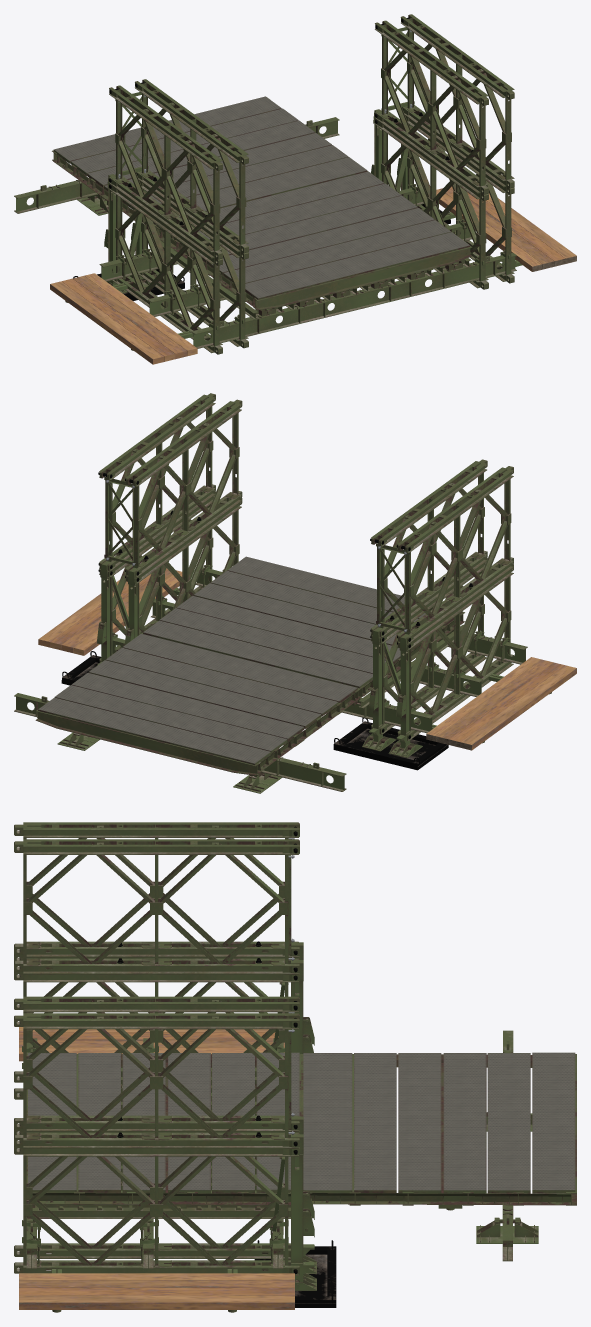
File: Bailey_bridge.fbx
3 views of the same model, one above another, from view 1: azimuth 30°, elevation 25°; view 2: azimuth 150°, elevation 25°; view 3: azimuth 270°, elevation 25° (orthographic). The views are drawn at different scales.
Visible parts, largest first — view 1: Ramp_Plain_and_Button_02, Ramp_Plain_and_Button_01, Main_Bridge_aur_Decking_Members_04, Main_Bridge_aur_Decking_Members_07, Main_Bridge_aur_Decking_Members_05, Main_Bridge_aur_Decking_Members_01, Foot_Walk_01, Transom_03, Main_Bridge_aur_Decking_Members_06, Foot_Walk_03, Main_Bridge_aur_Decking_Members_02, Main_Bridge_aur_Decking_Members_08 (+7 smaller); view 2: Ramp_Plain_and_Button_01, Ramp_Plain_and_Button_02, Main_Bridge_aur_Decking_Members_07, Main_Bridge_aur_Decking_Members_04, Foot_Walk_01, Main_Bridge_aur_Decking_Members_05, Main_Bridge_aur_Decking_Members_01, Main_Bridge_aur_Decking_Members_06, Main_Bridge_aur_Decking_Members_02, Foot_Walk_03, Main_Bridge_aur_Decking_Members_08, Main_Bridge_aur_Decking_Members_03 (+13 smaller); view 3: Ramp_Plain_and_Button_01, Ramp_Plain_and_Button_02, Main_Bridge_aur_Decking_Members_05, Main_Bridge_aur_Decking_Members_01, Main_Bridge_aur_Decking_Members_07, Main_Bridge_aur_Decking_Members_04, Main_Bridge_aur_Decking_Members_03, Foot_Walk_03, Main_Bridge_aur_Decking_Members_08, Main_Bridge_aur_Decking_Members_02, Foot_Walk_01, Stringer_04 (+6 smaller).
Part boxes in pixels (x1=…): Ramp_Plain_and_Button_02: x1=155, y1=171, x2=472, y2=310; Ramp_Plain_and_Button_01: x1=52, y1=96, x2=367, y2=229; Main_Bridge_aur_Decking_Members_04: x1=109, y1=85, x2=222, y2=259; Main_Bridge_aur_Decking_Members_07: x1=375, y1=20, x2=488, y2=194; Main_Bridge_aur_Decking_Members_05: x1=400, y1=14, x2=514, y2=188; Main_Bridge_aur_Decking_Members_01: x1=135, y1=79, x2=248, y2=253; Foot_Walk_01: x1=50, y1=273, x2=197, y2=364; Transom_03: x1=191, y1=252, x2=516, y2=348; Main_Bridge_aur_Decking_Members_06: x1=109, y1=183, x2=222, y2=354; Foot_Walk_03: x1=436, y1=186, x2=576, y2=271; Main_Bridge_aur_Decking_Members_02: x1=139, y1=180, x2=248, y2=348; Main_Bridge_aur_Decking_Members_08: x1=375, y1=118, x2=488, y2=289; Ramp_Plain_and_Button_01: x1=35, y1=633, x2=360, y2=775; Ramp_Plain_and_Button_02: x1=141, y1=556, x2=465, y2=698; Main_Bridge_aur_Decking_Members_07: x1=125, y1=399, x2=242, y2=577; Main_Bridge_aur_Decking_Members_04: x1=397, y1=466, x2=513, y2=643; Foot_Walk_01: x1=426, y1=657, x2=576, y2=750; Main_Bridge_aur_Decking_Members_05: x1=99, y1=393, x2=215, y2=571; Main_Bridge_aur_Decking_Members_01: x1=371, y1=459, x2=487, y2=637; Main_Bridge_aur_Decking_Members_06: x1=397, y1=564, x2=513, y2=740; Main_Bridge_aur_Decking_Members_02: x1=371, y1=558, x2=487, y2=734; Foot_Walk_03: x1=38, y1=568, x2=182, y2=655; Main_Bridge_aur_Decking_Members_08: x1=125, y1=498, x2=242, y2=634; Main_Bridge_aur_Decking_Members_03: x1=99, y1=491, x2=215, y2=662; Ramp_Plain_and_Button_01: x1=301, y1=1052, x2=576, y2=1210; Ramp_Plain_and_Button_02: x1=26, y1=1052, x2=301, y2=1208; Main_Bridge_aur_Decking_Members_05: x1=14, y1=1013, x2=299, y2=1148; Main_Bridge_aur_Decking_Members_01: x1=14, y1=839, x2=299, y2=974; Main_Bridge_aur_Decking_Members_07: x1=14, y1=996, x2=299, y2=1131; Main_Bridge_aur_Decking_Members_04: x1=14, y1=822, x2=299, y2=957; Main_Bridge_aur_Decking_Members_03: x1=14, y1=1143, x2=299, y2=1275; Foot_Walk_03: x1=19, y1=1273, x2=294, y2=1309; Main_Bridge_aur_Decking_Members_08: x1=14, y1=1126, x2=299, y2=1258; Main_Bridge_aur_Decking_Members_02: x1=14, y1=969, x2=299, y2=1099; Foot_Walk_01: x1=19, y1=1027, x2=284, y2=1061; Stringer_04: x1=27, y1=1190, x2=290, y2=1218.
Bounding box in the file's own units: 723 × 331 × 620.
Materials: 3 (3 with a texture image).
